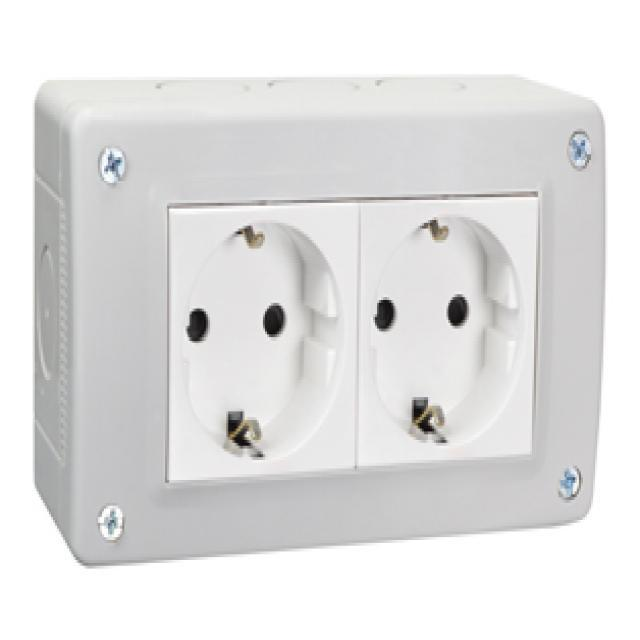typeb: (139, 166, 566, 496)
